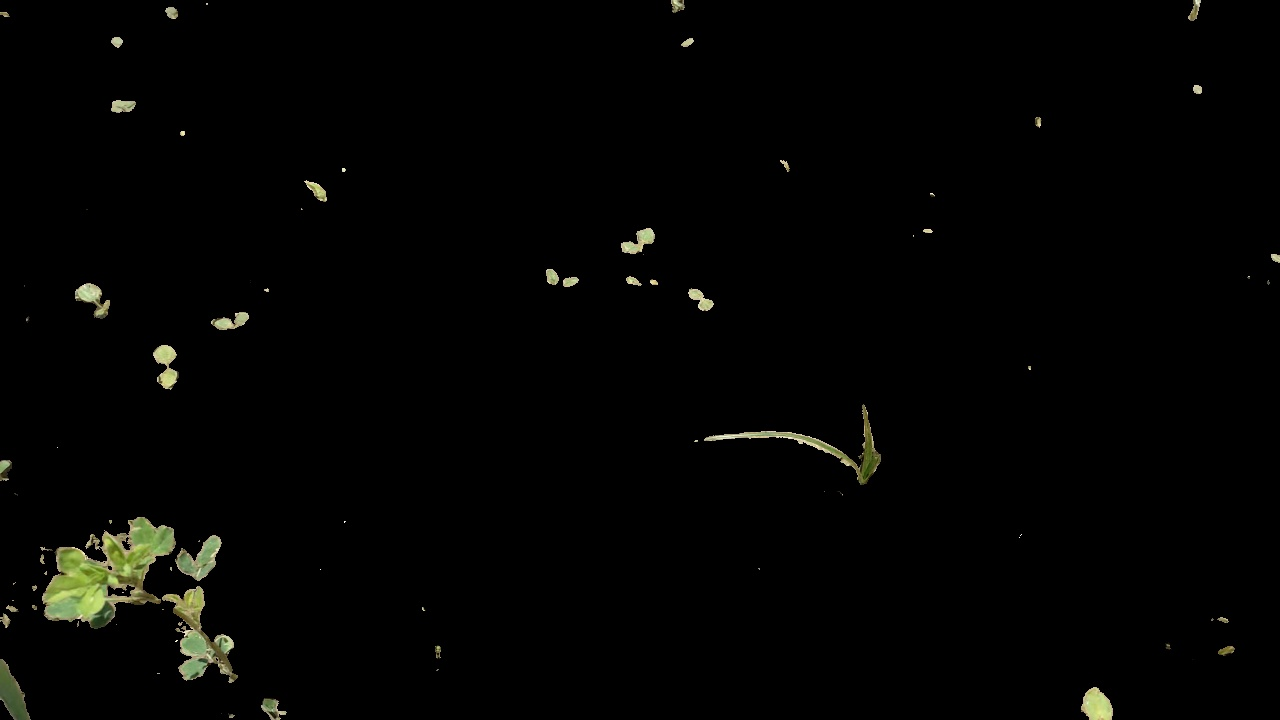weed: (40, 510, 241, 692), (700, 405, 894, 489), (72, 276, 118, 319), (146, 346, 186, 387), (608, 226, 660, 254), (1079, 681, 1119, 717), (204, 307, 255, 330), (253, 694, 297, 717), (686, 286, 714, 318), (538, 264, 578, 286)
